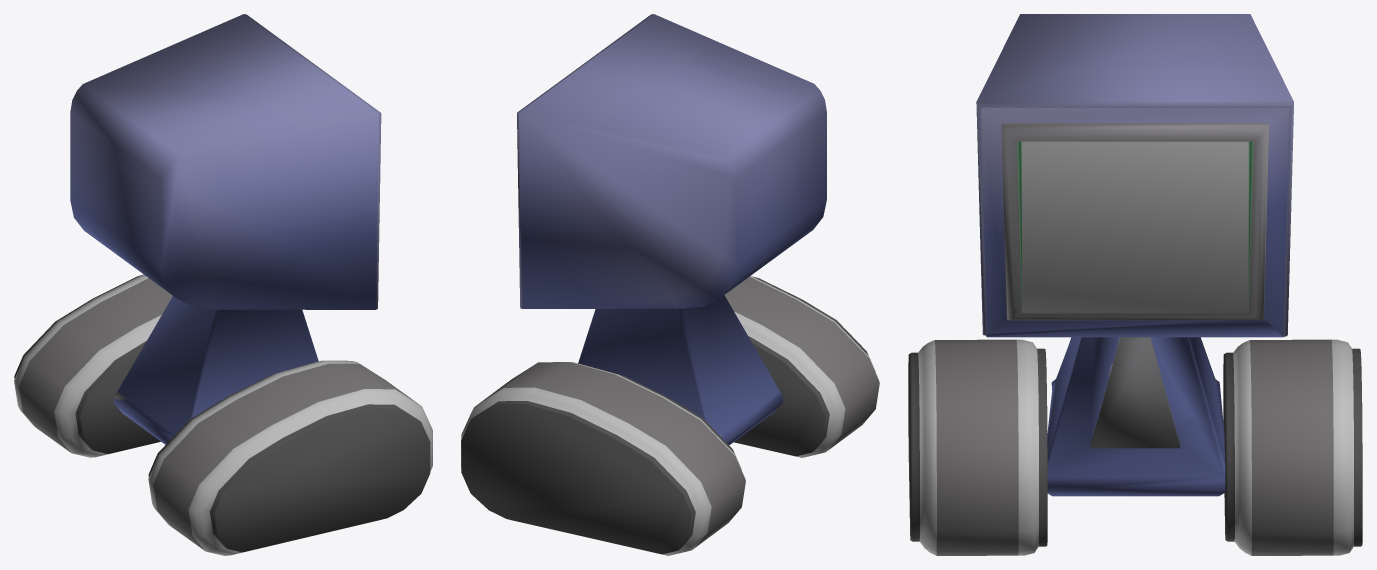
Rendered from robo.fbx.
3 views of the same model, side by side, from view 1: azimuth 30°, elevation 25°; view 2: azimuth 150°, elevation 25°; view 3: azimuth 270°, elevation 25° (orthographic). The views are drawn at different scales.
Parts seen in each view (by area): view 1: Cube.001; view 2: Cube.001; view 3: Cube.001.
Part boxes in pixels (box(x1,y1,x2,y2)): Cube.001: box(14, 14, 432, 555); Cube.001: box(461, 14, 879, 555); Cube.001: box(908, 14, 1362, 555).
Bounding box in the file's own units: 238 × 360 × 325.
